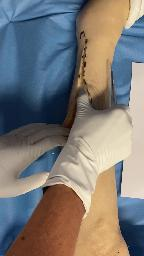scalpel: (110, 62, 118, 108)
